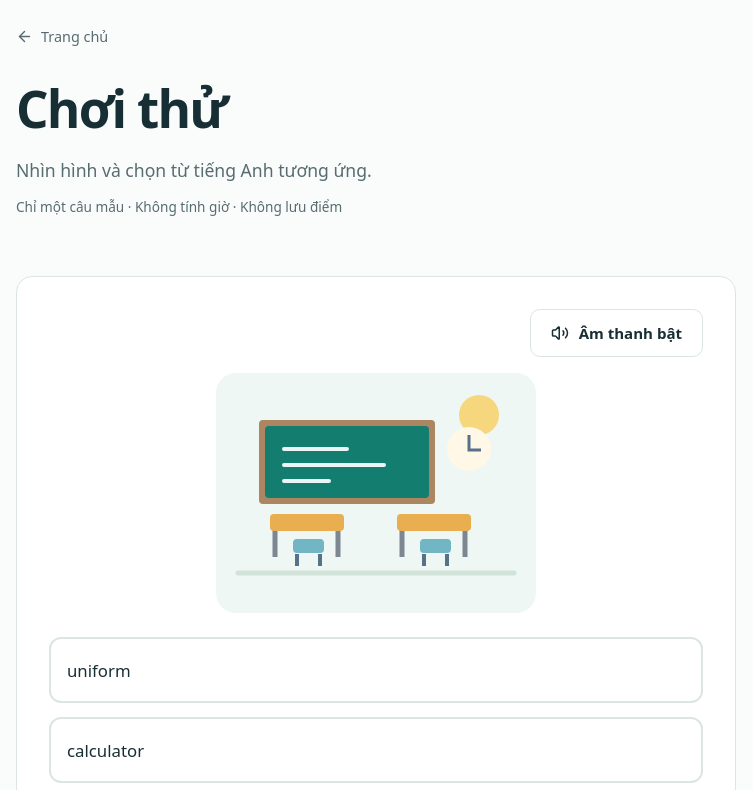
Scenario: routes and user interactions › offers one standalone demo question, retries and a Unit 1 link without changing progress
The image size is (753, 790).
Click the button "uniform".
click(99, 670)  # box [49,637,703,703]
(page scrolled)
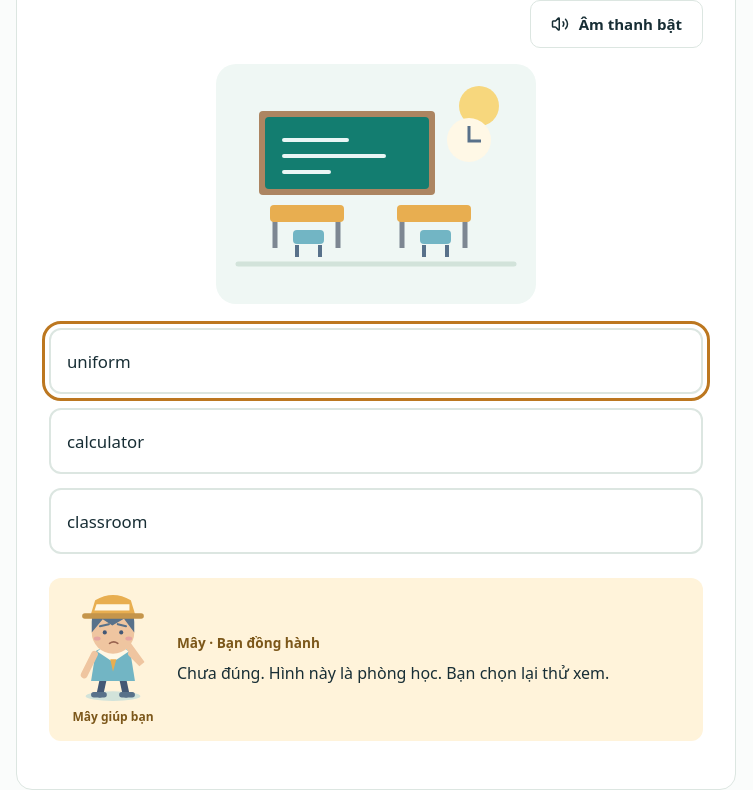
Now the message shows "Chưa đúng", box [177,662,609,684]
Click the button "classroom".
click(107, 521)  # box [49,488,703,554]
(page scrolled)
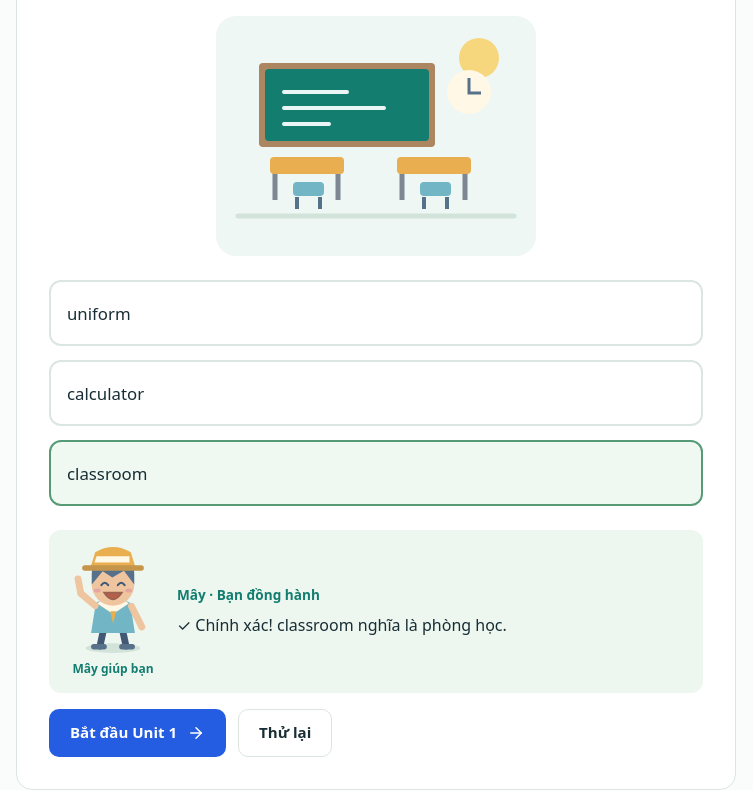
Now the message shows "Chính xác", box [177,614,507,636]
Now the button "uniform" is disabled, box [49,280,703,346]
Now the button "calculator" is disabled, box [49,360,703,426]
Click the button "Thử lại".
click(285, 733)  # box [238,709,332,757]
(page scrolled)
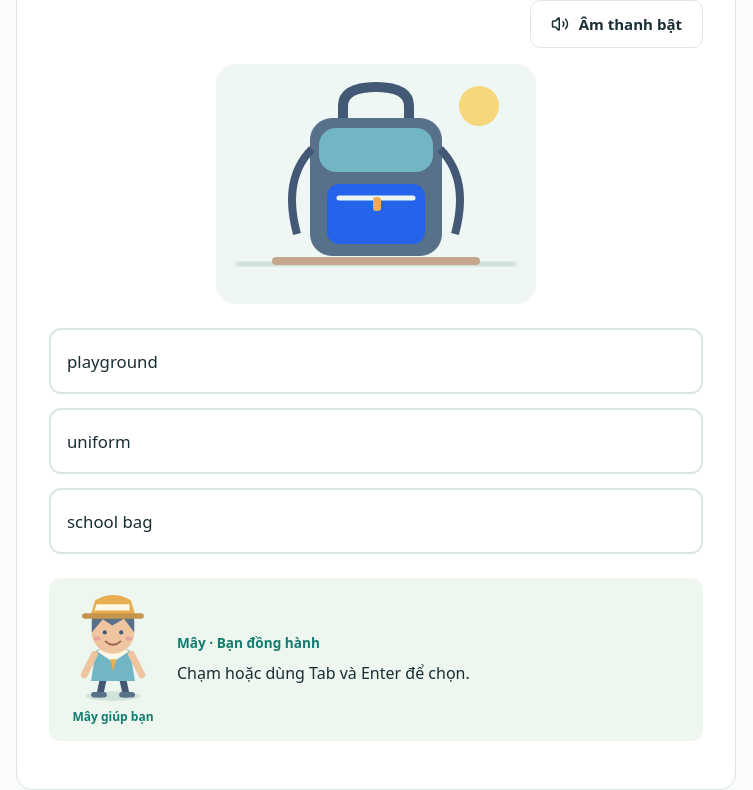
Now the button "playground" is enabled, box [49,328,703,394]
Now the button "uniform" is enabled, box [49,408,703,474]
Now the button "school bag" is enabled, box [49,488,703,554]
